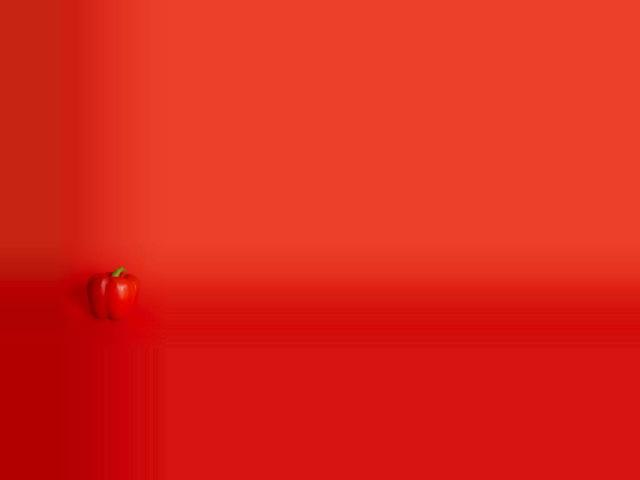bell_pepper: (85, 265, 137, 324)
